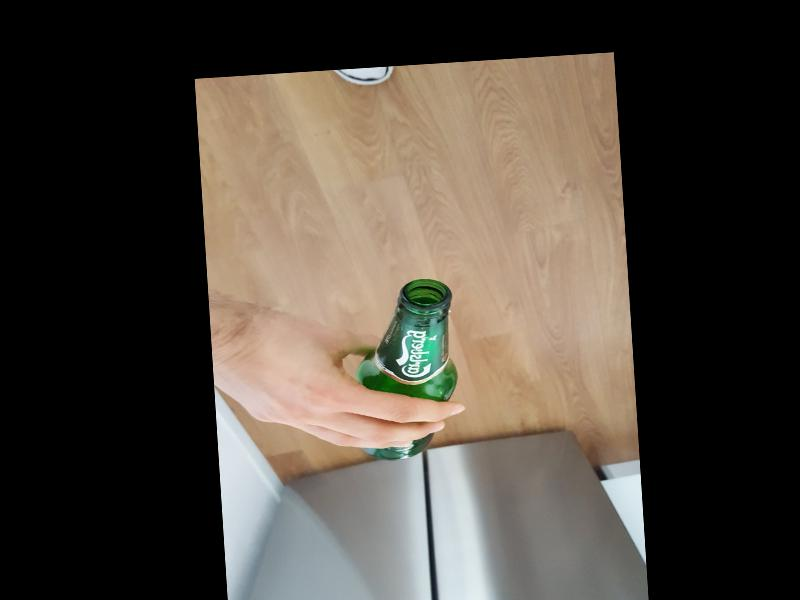Beer: (350, 276, 461, 461)
